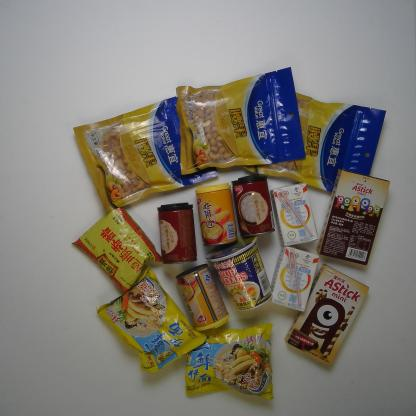Canned Food: (174, 263, 230, 331), (194, 182, 239, 248), (231, 172, 276, 237), (156, 202, 198, 265)
Dessert: (283, 262, 371, 367), (315, 167, 391, 268)
Dried Fruit: (70, 95, 220, 213), (241, 90, 388, 194), (175, 65, 308, 177)
Instant Noodles: (94, 264, 207, 374), (184, 322, 276, 401), (205, 235, 274, 311)
Milk: (269, 246, 320, 313), (269, 182, 319, 247)
Seasoner: (71, 205, 164, 297)
